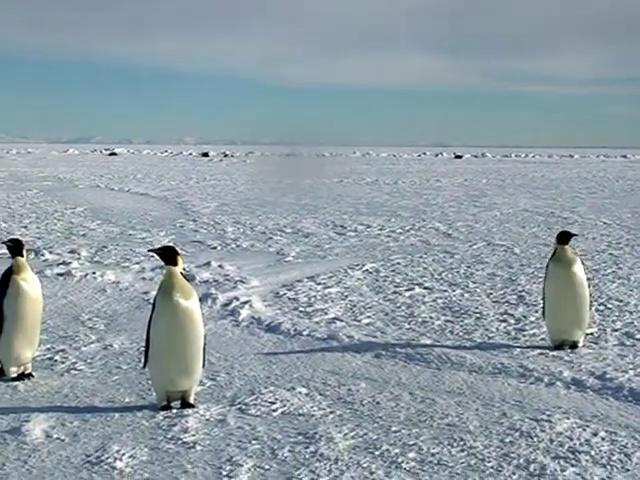animal: (145, 246, 206, 410)
